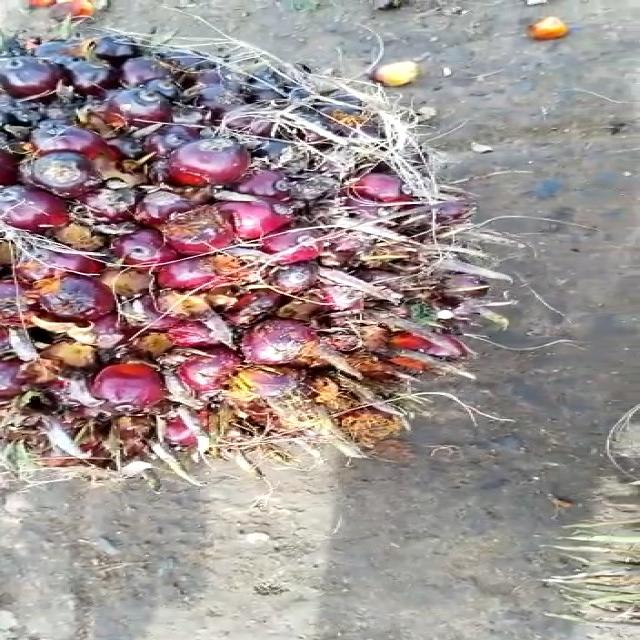palm oil: (0, 19, 478, 472)
